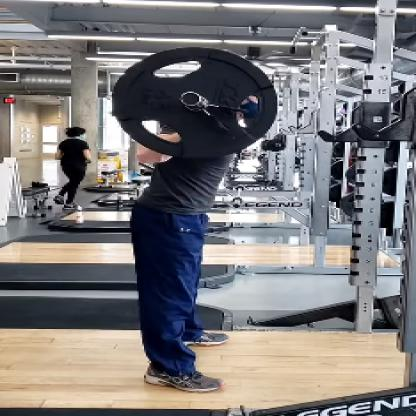Barbell: (99, 40, 298, 161)
